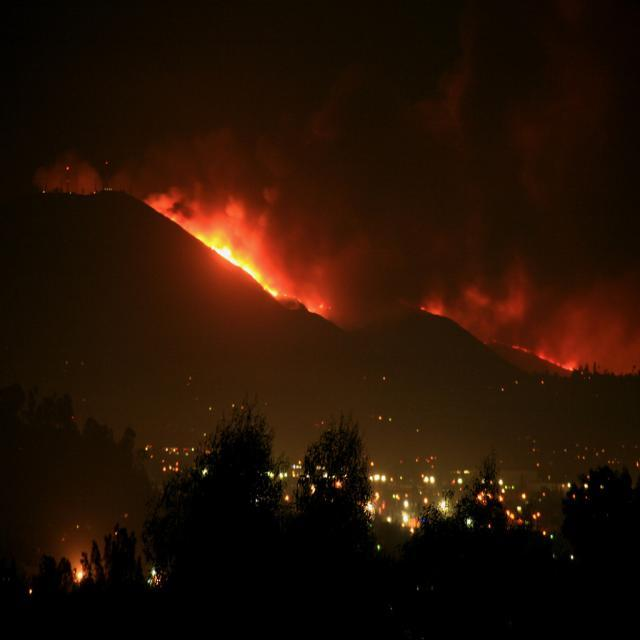Fire: (216, 239, 236, 264), (242, 264, 266, 283)
